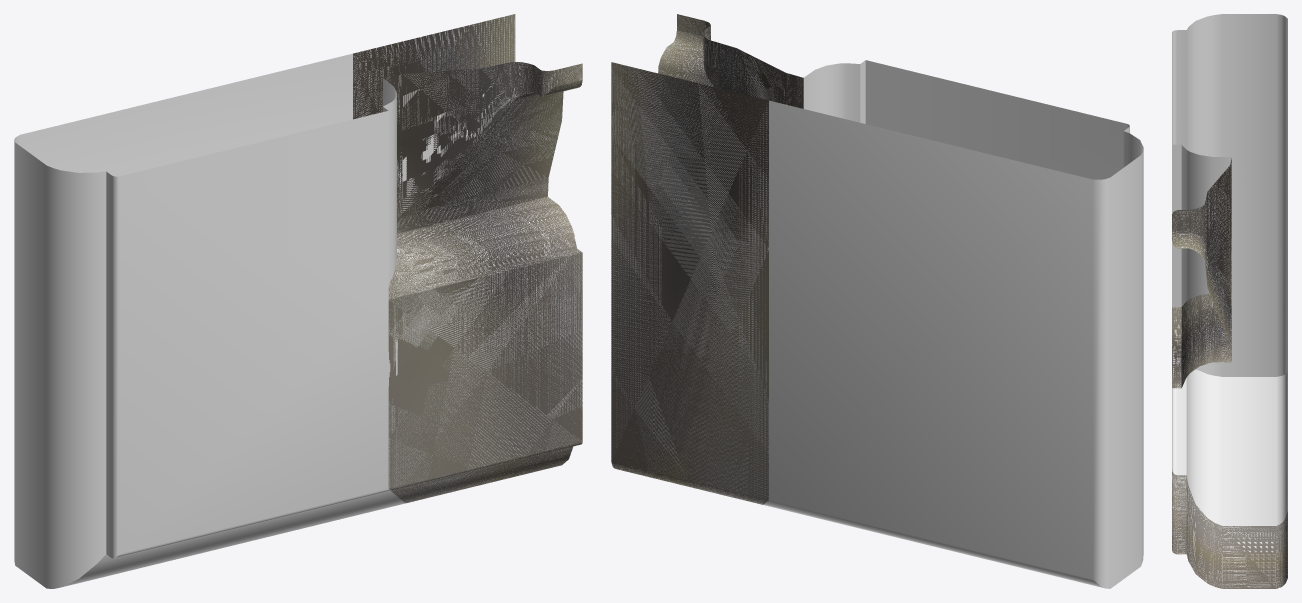
File: original-68.obj
The picture shows the model from 3 angles, left to right: view 1: azimuth 30°, elevation 25°; view 2: azimuth 150°, elevation 25°; view 3: azimuth 270°, elevation 25°; orthographic projection. The views are drawn at different scales.
Parts seen in each view (by area): view 1: DF_11_BL2/DF_11_BL/mesh24/mesh24-geometry#mesh24-geometry; view 2: DF_11_BL2/DF_11_BL/mesh24/mesh24-geometry#mesh24-geometry; view 3: DF_11_BL2/DF_11_BL/mesh24/mesh24-geometry#mesh24-geometry.
Boxes of the visible parts, x1,y1,x2,y2 form: DF_11_BL2/DF_11_BL/mesh24/mesh24-geometry#mesh24-geometry: [14, 14, 582, 588]; DF_11_BL2/DF_11_BL/mesh24/mesh24-geometry#mesh24-geometry: [611, 14, 1143, 588]; DF_11_BL2/DF_11_BL/mesh24/mesh24-geometry#mesh24-geometry: [1172, 14, 1287, 588].
Bounding box in the file's own units: 0.143 × 0.1142 × 0.033.
